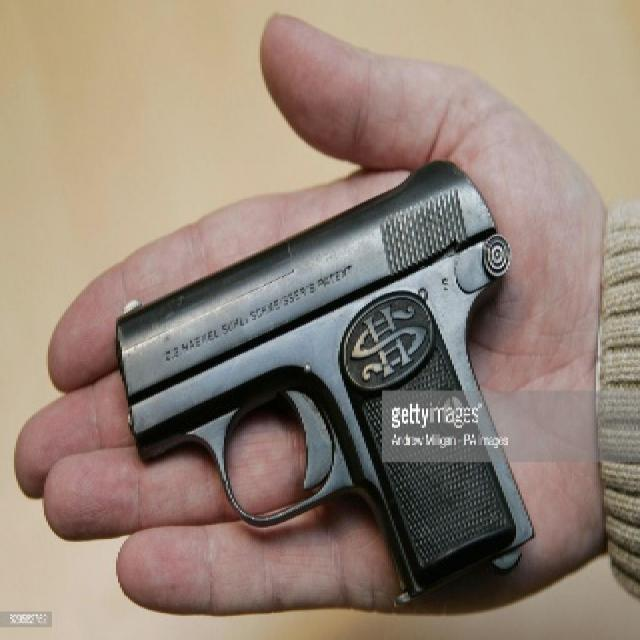weapon: (112, 156, 536, 594)
